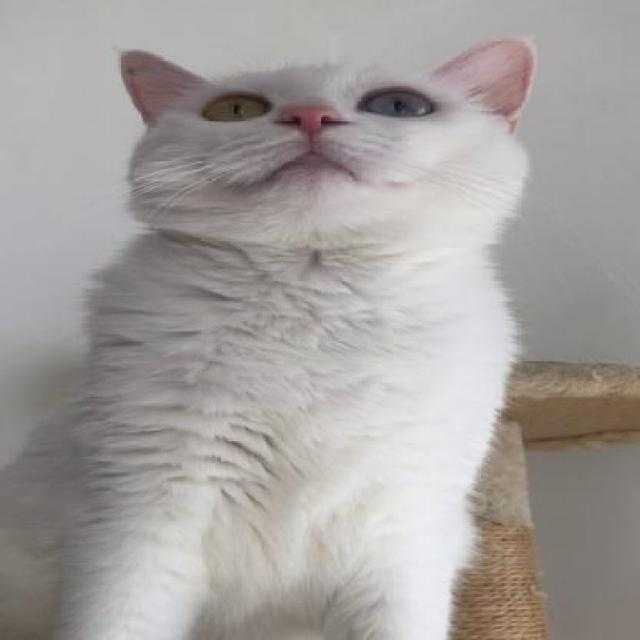cat-face: (102, 38, 542, 253)
